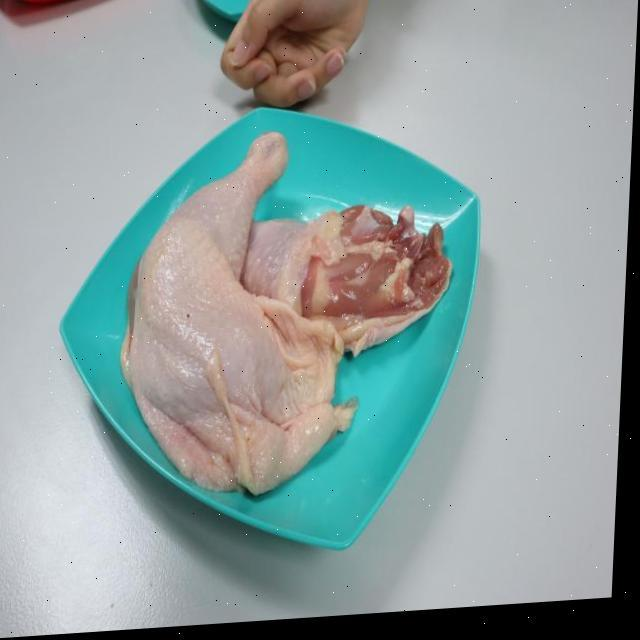quater: (126, 128, 348, 500), (167, 170, 500, 342)
